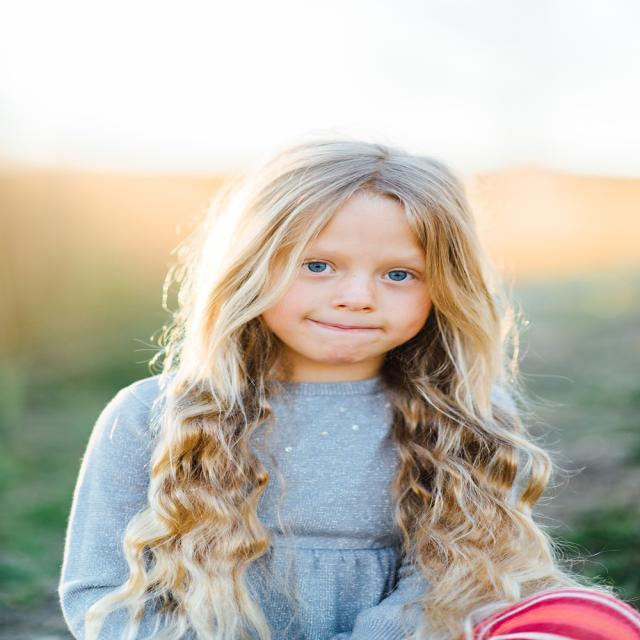non-dog: (58, 130, 575, 640)
